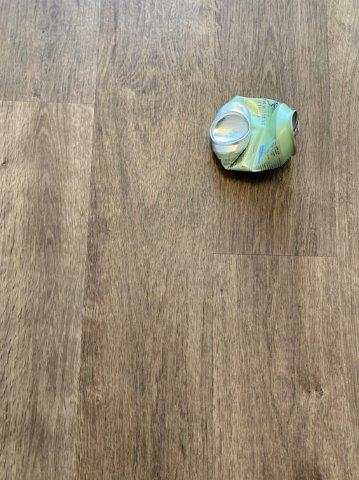kaleng: (210, 96, 299, 173)
